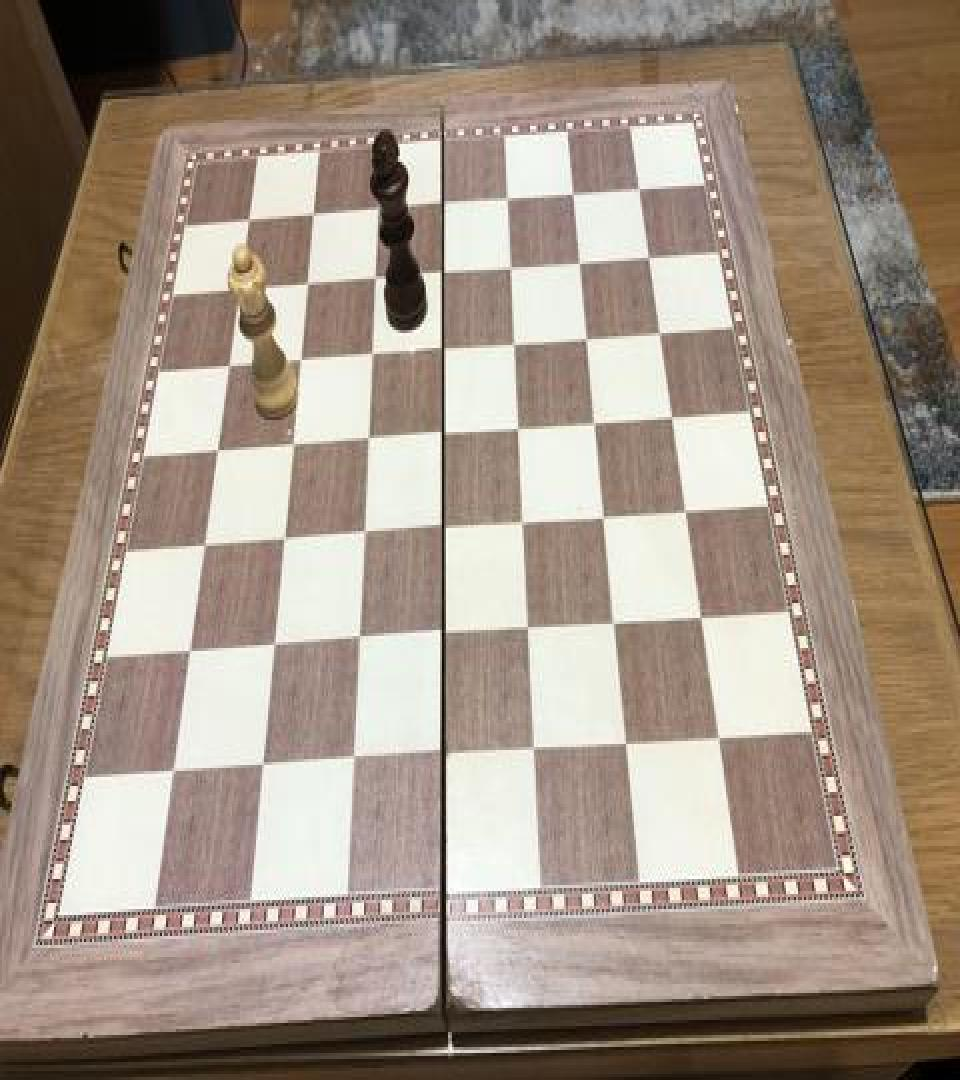xcorner: (688, 601, 712, 638), (613, 727, 637, 764), (521, 733, 545, 770), (161, 754, 185, 791), (627, 171, 651, 207), (561, 177, 585, 213), (495, 183, 519, 219), (364, 194, 388, 230), (299, 198, 323, 234), (235, 204, 259, 240), (637, 240, 661, 276), (568, 246, 592, 282), (498, 252, 522, 288), (430, 256, 454, 292), (361, 262, 385, 298), (293, 268, 317, 304), (226, 273, 250, 309), (648, 316, 672, 352), (575, 322, 599, 358), (430, 333, 454, 369), (358, 339, 382, 375), (286, 345, 310, 381), (215, 351, 239, 387), (660, 402, 684, 438), (583, 406, 607, 442), (430, 418, 454, 454), (354, 424, 378, 460), (204, 435, 228, 471), (673, 496, 697, 532), (592, 501, 616, 537), (511, 507, 535, 543), (430, 513, 454, 549), (350, 519, 374, 555), (270, 525, 294, 561), (191, 530, 215, 566), (602, 608, 626, 644), (516, 614, 540, 650), (430, 620, 454, 656), (345, 624, 369, 660), (261, 630, 285, 666), (177, 636, 201, 672), (705, 722, 729, 758), (430, 738, 454, 774), (340, 744, 364, 780), (250, 750, 274, 786), (430, 188, 454, 223), (502, 329, 526, 364), (506, 413, 530, 448), (279, 431, 303, 466)
